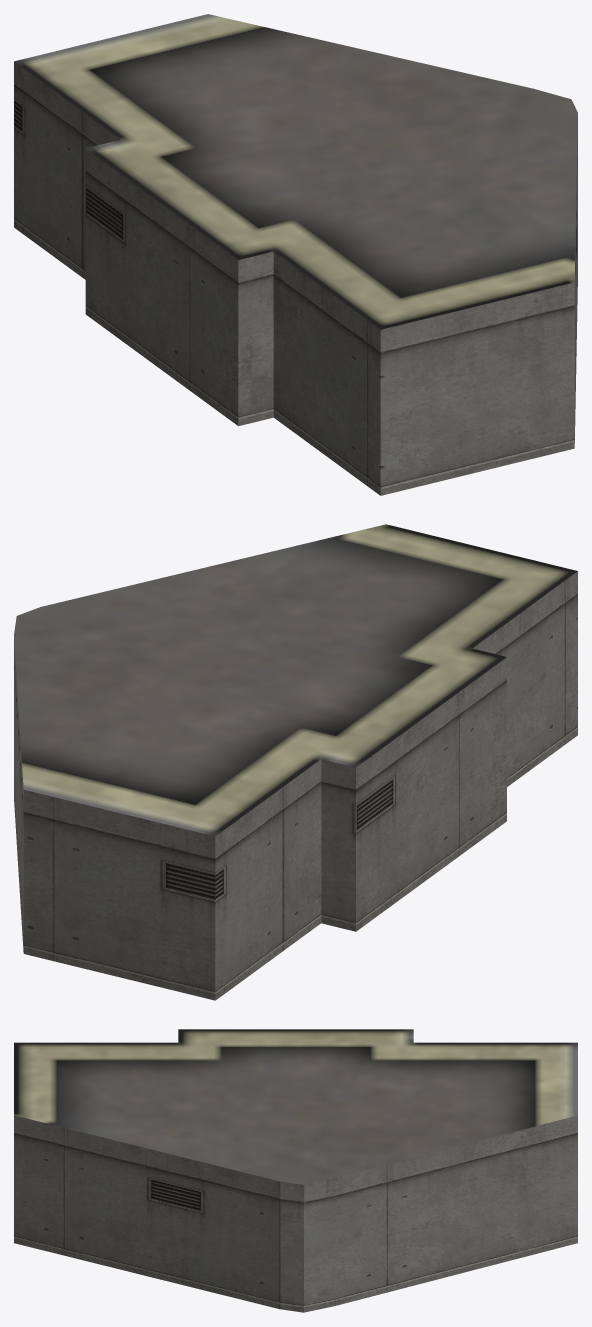
File: building_medium_06.glb
3 views of the same model, one above another, from view 1: azimuth 30°, elevation 25°; view 2: azimuth 150°, elevation 25°; view 3: azimuth 270°, elevation 25° (orthographic). The views are drawn at different scales.
Parts seen in each view (by area): view 1: buildings/saxarba/building_medium/building_medium_06; view 2: buildings/saxarba/building_medium/building_medium_06; view 3: buildings/saxarba/building_medium/building_medium_06.
Boxes of the visible parts, x1,y1,x2,y2 form: buildings/saxarba/building_medium/building_medium_06: [14, 14, 577, 495]; buildings/saxarba/building_medium/building_medium_06: [14, 524, 577, 1000]; buildings/saxarba/building_medium/building_medium_06: [14, 1029, 577, 1312].
Bounding box in the file's own units: 47 × 18 × 72.
